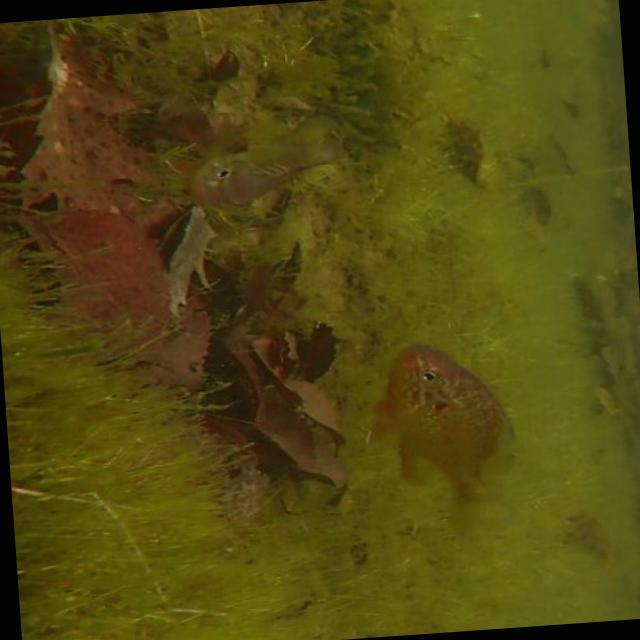Gunes Levregi: (360, 333, 528, 548)
